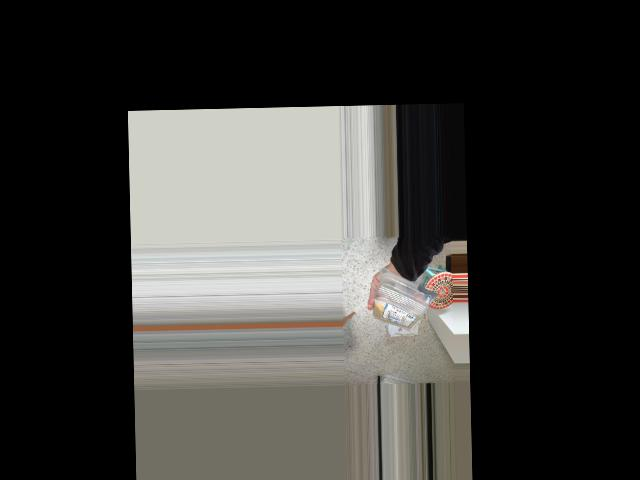cheese: (373, 266, 442, 342)
